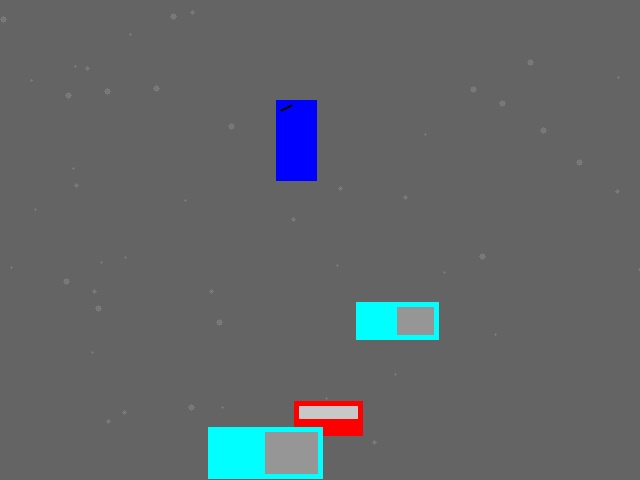car: (294, 401, 362, 435)
motorcycle: (276, 100, 316, 180)
truck: (208, 427, 322, 478), (356, 302, 438, 339)
